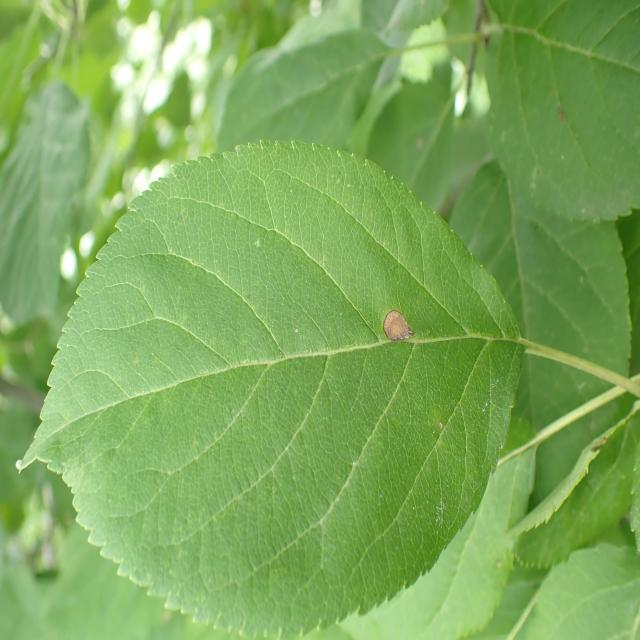Black Rot: (367, 285, 427, 380)
